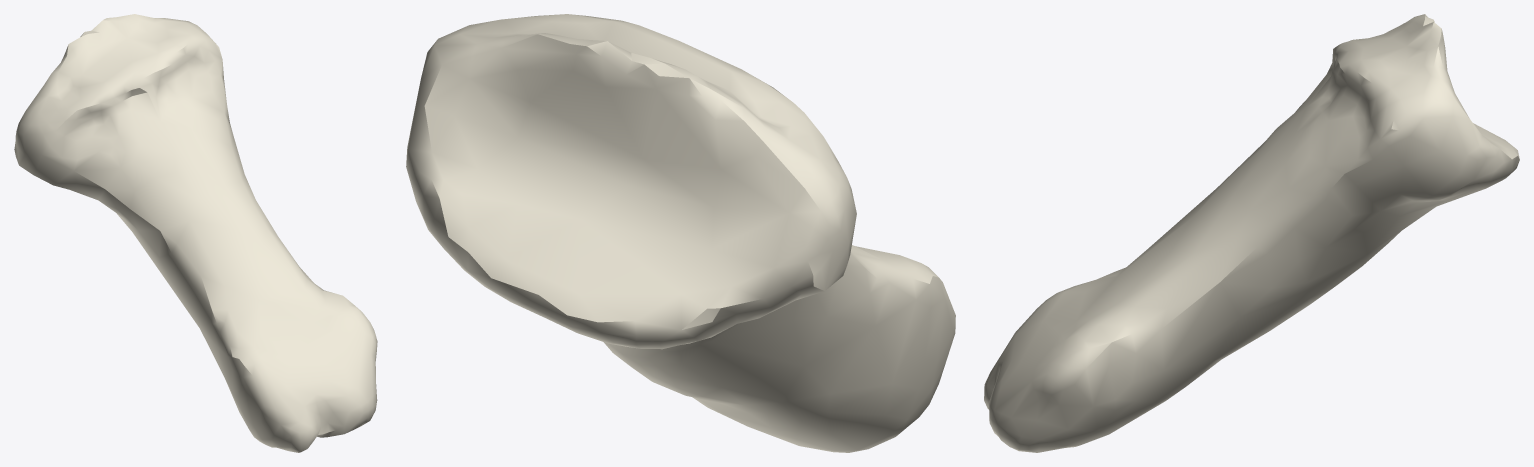
The model's file is fma23953_mm1893m.glb.
3 views of the same model, side by side, from view 1: azimuth 30°, elevation 25°; view 2: azimuth 150°, elevation 25°; view 3: azimuth 270°, elevation 25° (orthographic). The views are drawn at different scales.
Visible parts, largest first — view 1: FMA23953_MM1893M; view 2: FMA23953_MM1893M; view 3: FMA23953_MM1893M.
Boxes of the visible parts, x1,y1,x2,y2 form: FMA23953_MM1893M: (14, 14, 377, 452); FMA23953_MM1893M: (406, 14, 955, 452); FMA23953_MM1893M: (984, 14, 1519, 452).
Size of the model in its own units: 0.0101 by 0.014 by 0.0171.
